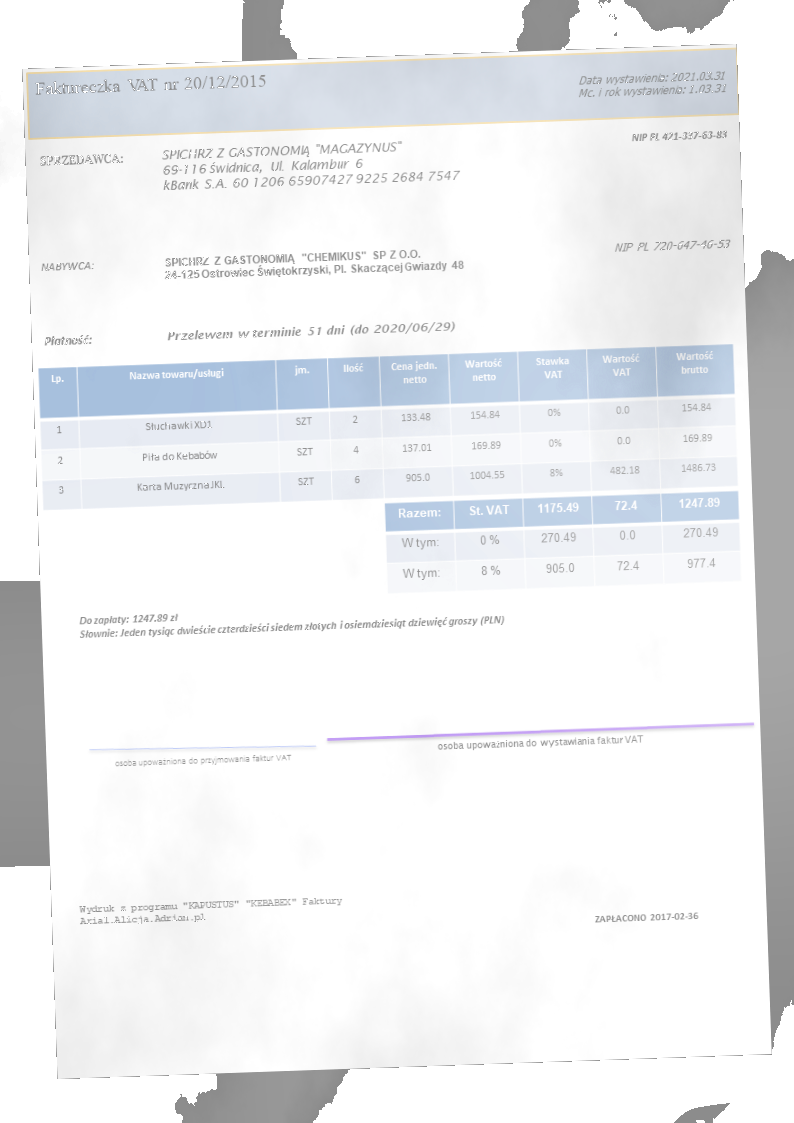Table: (36, 342, 738, 510), (383, 490, 743, 596)
TextBox: (76, 598, 506, 643), (157, 136, 463, 196), (160, 243, 466, 285), (76, 894, 345, 927), (166, 319, 457, 343), (33, 70, 268, 98), (576, 67, 729, 102), (435, 732, 646, 754), (113, 750, 293, 769), (612, 236, 732, 255), (629, 125, 730, 145), (591, 908, 700, 925), (36, 150, 126, 170), (39, 258, 96, 274), (41, 331, 93, 348)
